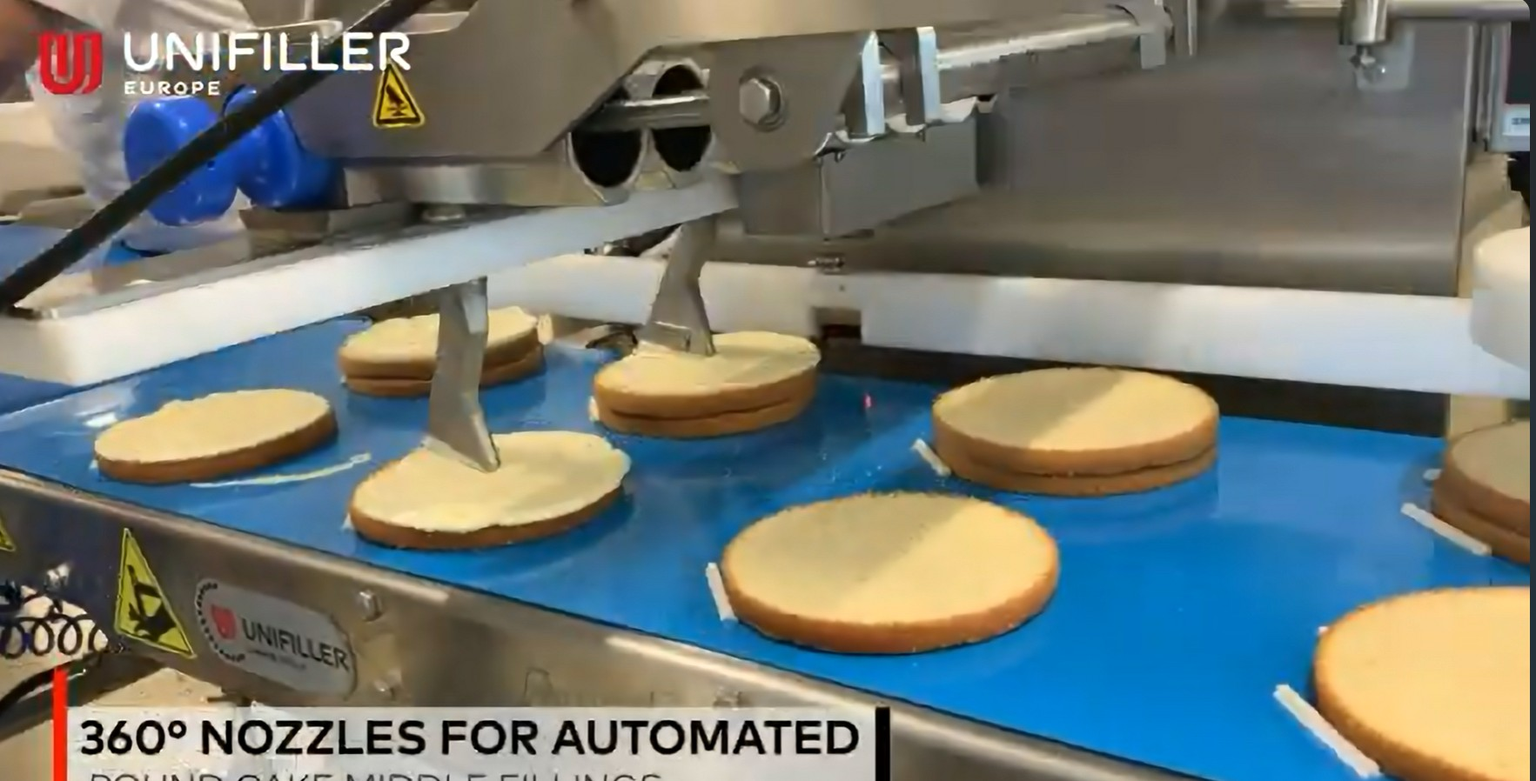Sponge Cake: (711, 493, 1060, 651), (1304, 574, 1536, 781), (923, 364, 1221, 490), (1425, 424, 1536, 566)
Whipped Cream: (348, 433, 622, 550), (77, 384, 339, 486), (590, 322, 818, 432), (332, 315, 549, 396)
